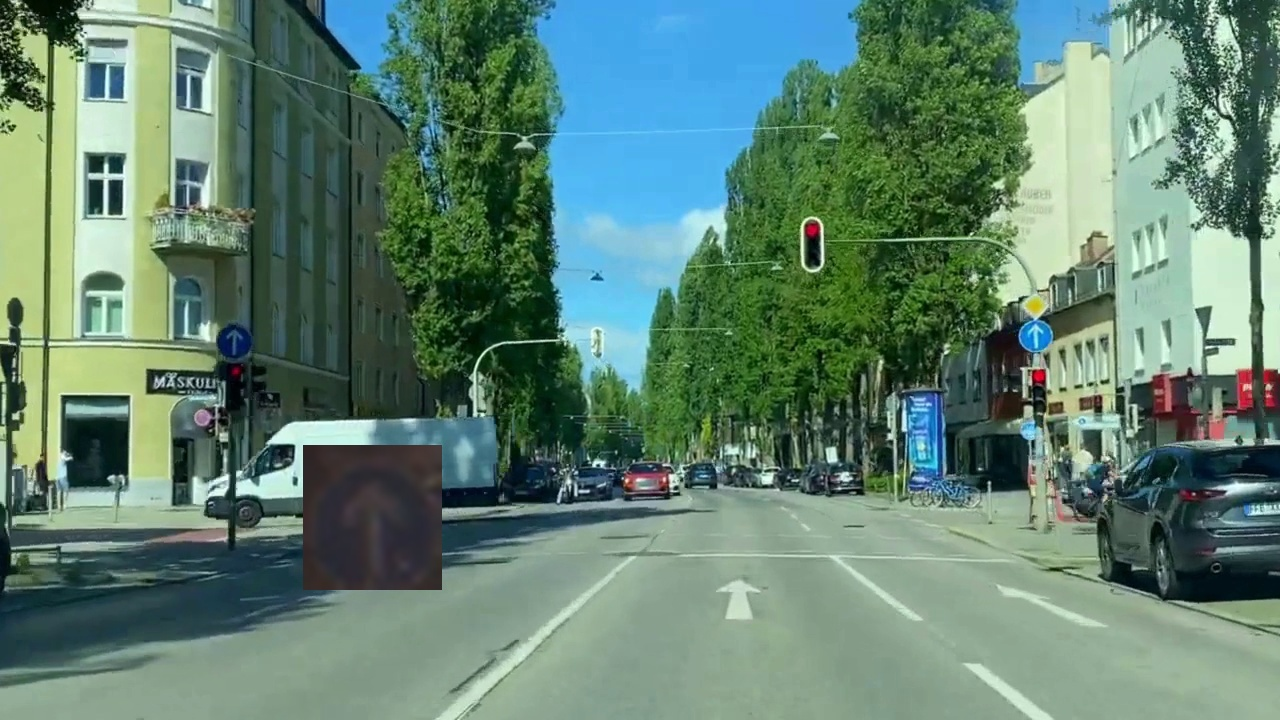Ahead only: (303, 445, 442, 590)
